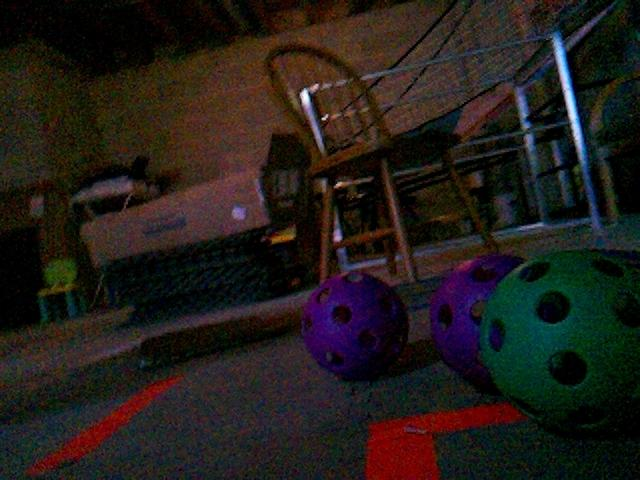Green: (477, 250, 640, 438)
Purple: (427, 256, 528, 391), (298, 269, 411, 381)
